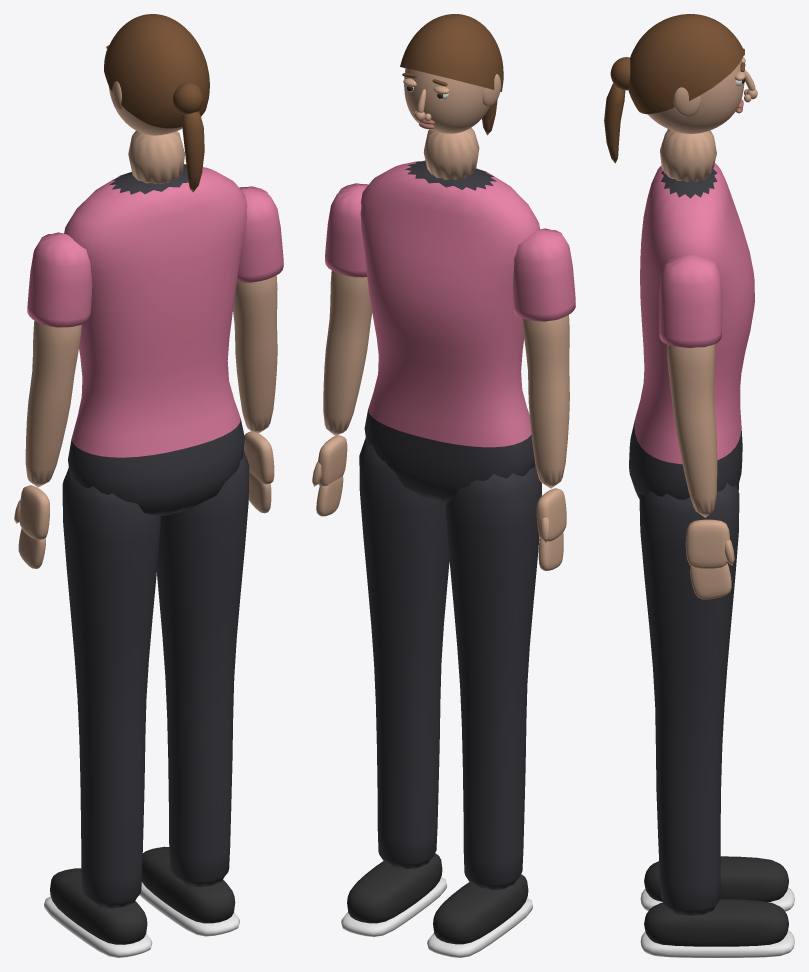
File: pedestrian.glb
3 views of the same model, side by side, from view 1: azimuth 30°, elevation 25°; view 2: azimuth 150°, elevation 25°; view 3: azimuth 270°, elevation 25° (orthographic). The views are drawn at different scales.
Visible parts, largest first — view 1: body.005, leg_r.002, leg_l.002, arm_r.002, arm_l.002; view 2: body.005, leg_r.002, leg_l.002, arm_r.002, arm_l.002; view 3: body.005, leg_l.002, arm_l.002, leg_r.002.
Boxes of the visible parts, left/top/right/bottom form: body.005: left=64, top=14, right=247, bottom=516; leg_r.002: left=44, top=467, right=160, bottom=957; leg_l.002: left=139, top=449, right=249, bottom=936; arm_r.002: left=14, top=232, right=92, bottom=568; arm_l.002: left=233, top=186, right=283, bottom=513; body.005: left=360, top=14, right=540, bottom=503; leg_r.002: left=427, top=465, right=541, bottom=957; leg_l.002: left=341, top=437, right=449, bottom=936; arm_r.002: left=513, top=228, right=575, bottom=570; arm_l.002: left=312, top=183, right=372, bottom=516; body.005: left=604, top=14, right=757, bottom=499; leg_l.002: left=639, top=483, right=794, bottom=957; arm_l.002: left=659, top=255, right=734, bottom=599; leg_r.002: left=640, top=484, right=794, bottom=911.
Size of the model in its own units: 0.4734 by 1.68 by 0.3187.
